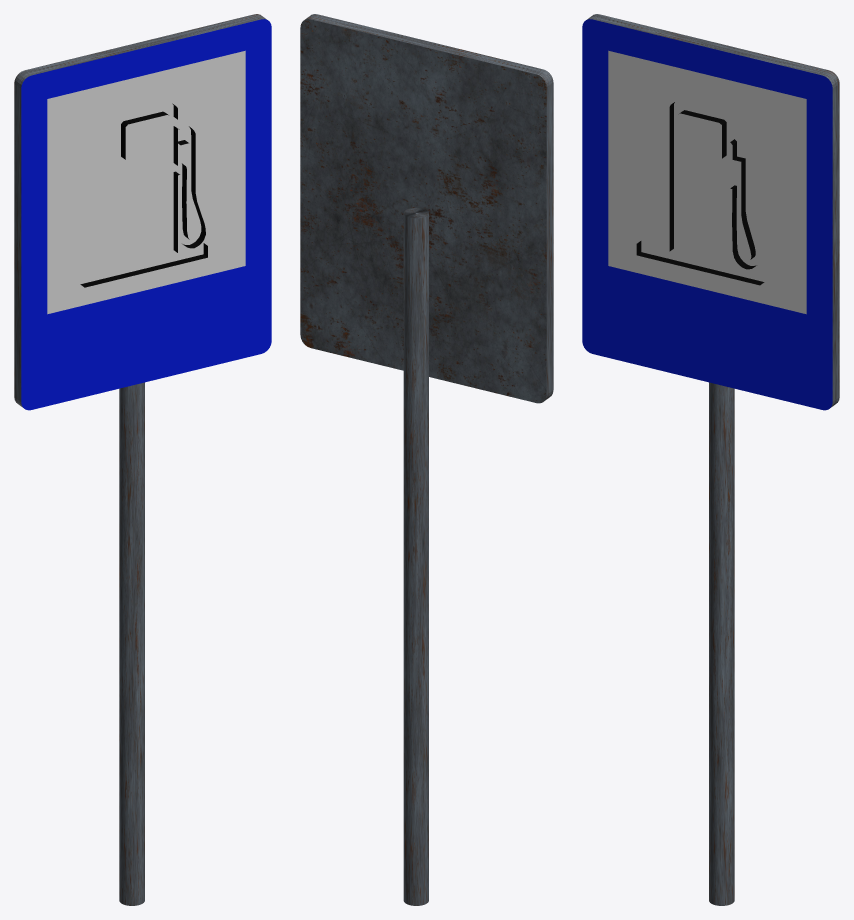
File: Gas station road sign.fbx
3 views of the same model, side by side, from view 1: azimuth 30°, elevation 25°; view 2: azimuth 150°, elevation 25°; view 3: azimuth 330°, elevation 25° (orthographic).
Parts seen in each view (by area): view 1: Cube.001, tiang.008, Plane.002; view 2: Cube.001, tiang.008; view 3: Cube.001, tiang.008, Plane.002.
Boxes of the visible parts, box(x1,y1,x2,y2) form: Cube.001: box(14, 14, 271, 410); tiang.008: box(119, 382, 144, 905); Plane.002: box(80, 103, 207, 287); Cube.001: box(300, 14, 553, 403); tiang.008: box(403, 207, 428, 905); Cube.001: box(582, 14, 839, 410); tiang.008: box(709, 382, 734, 905); Plane.002: box(636, 102, 764, 285).
Bounding box in the file's own units: 317 × 1043 × 55.34.
4 materials, 1 textured.
